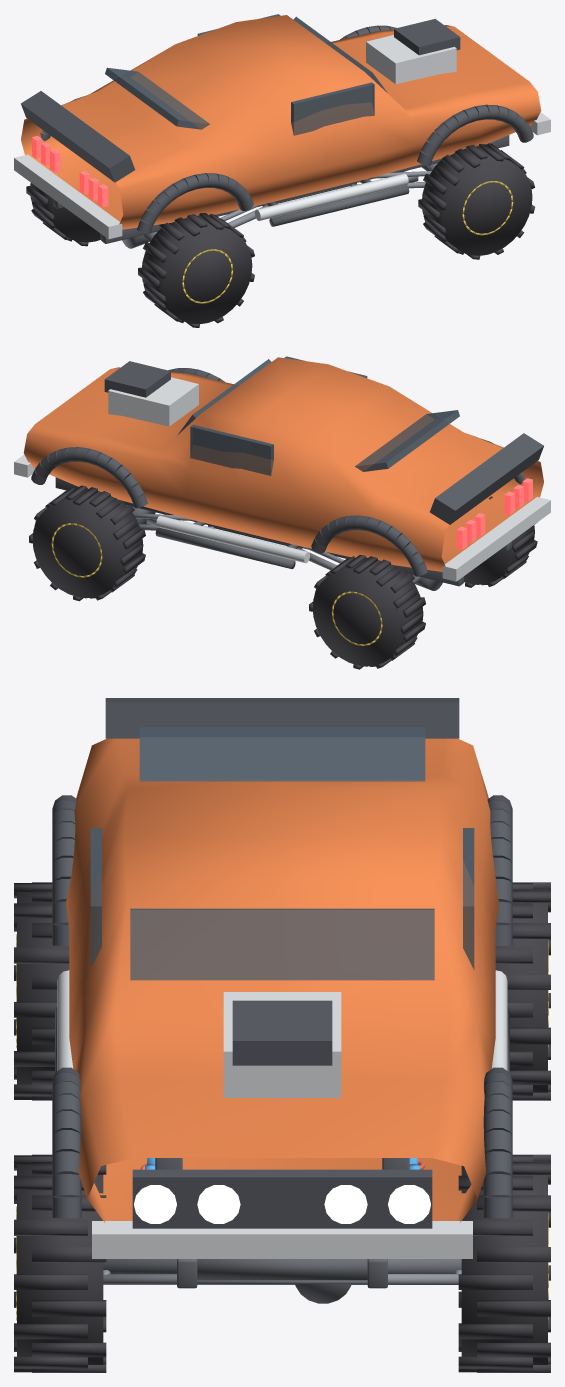
Rendered from jax_muscle_outlaw_04.glb.
3 renders of one model, top to bottom at view 1: azimuth 30°, elevation 25°; view 2: azimuth 150°, elevation 25°; view 3: azimuth 270°, elevation 25°, orthographic. The views are drawn at different scales.
Visible parts, largest first — view 1: Body_Shell, Wheel_FR, Wheel_RR, Chassis_Frame, Wheel_RL, ControlArm_FR, TrailingArm_RR; view 2: Body_Shell, Wheel_FL, Wheel_RL, Chassis_Frame, Wheel_RR, ControlArm_FL, TrailingArm_RL; view 3: Body_Shell, Wheel_FL, Wheel_FR, Wheel_RL, Wheel_RR, Chassis_Frame, Axle_Front.
Part boxes in pixels (box(x1,y1,x2,y2)): Body_Shell: box(14, 14, 550, 239); Wheel_FR: box(418, 143, 534, 259); Wheel_RR: box(138, 213, 254, 327); Chassis_Frame: box(53, 135, 509, 243); Wheel_RL: box(26, 183, 100, 246); ControlArm_FR: box(350, 171, 431, 188); TrailingArm_RR: box(220, 204, 267, 227); Body_Shell: box(14, 356, 550, 581); Wheel_FL: box(29, 485, 145, 601); Wheel_RL: box(309, 555, 425, 669); Chassis_Frame: box(55, 477, 511, 586); Wheel_RR: box(464, 496, 537, 587); ControlArm_FL: box(133, 513, 214, 530); TrailingArm_RL: box(297, 547, 344, 570); Body_Shell: box(52, 698, 512, 1258); Wheel_FL: box(458, 1154, 550, 1372); Wheel_FR: box(14, 1154, 106, 1372); Wheel_RL: box(495, 882, 550, 1100); Wheel_RR: box(14, 882, 69, 1100); Chassis_Frame: box(55, 1007, 509, 1288); Axle_Front: box(103, 1259, 461, 1303).
Bounding box in the file's own units: 4.48 × 1.87 × 2.37.
